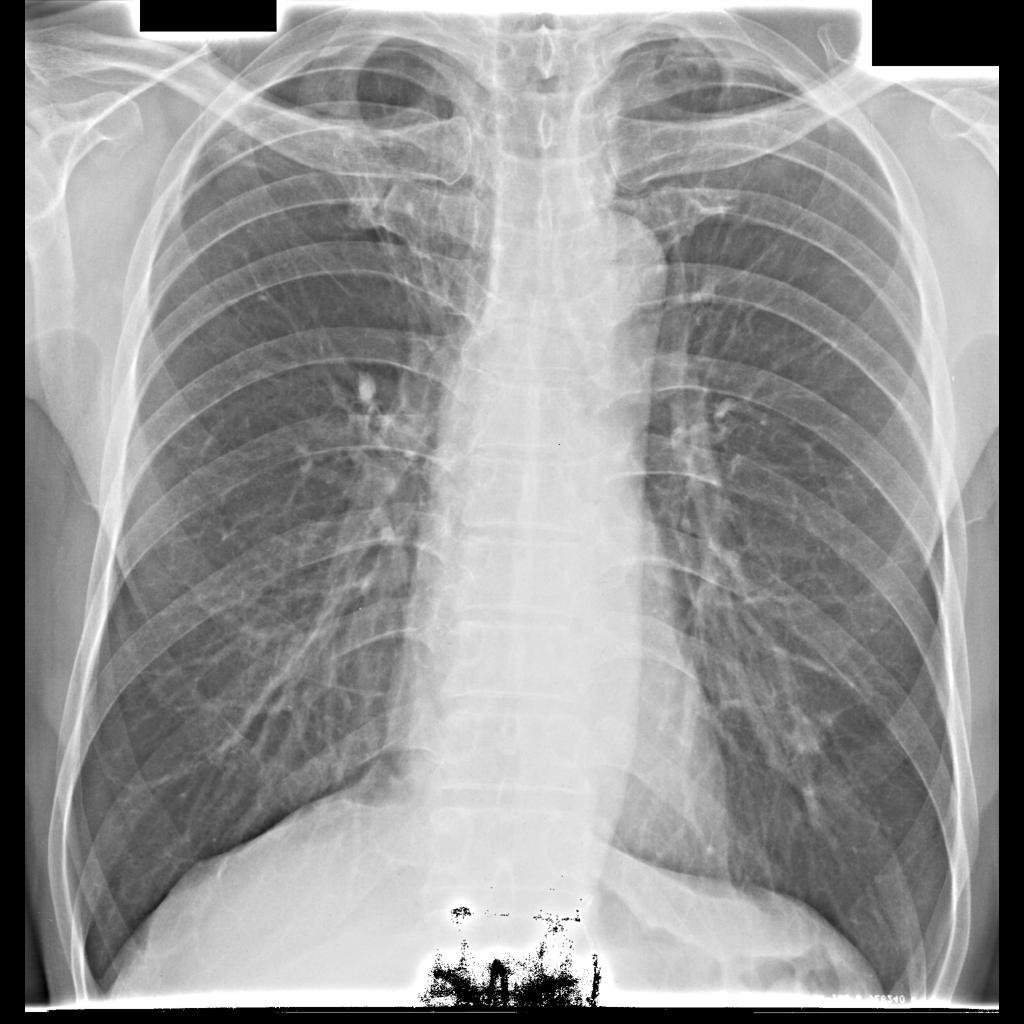Nodule: (792, 721, 823, 752)
